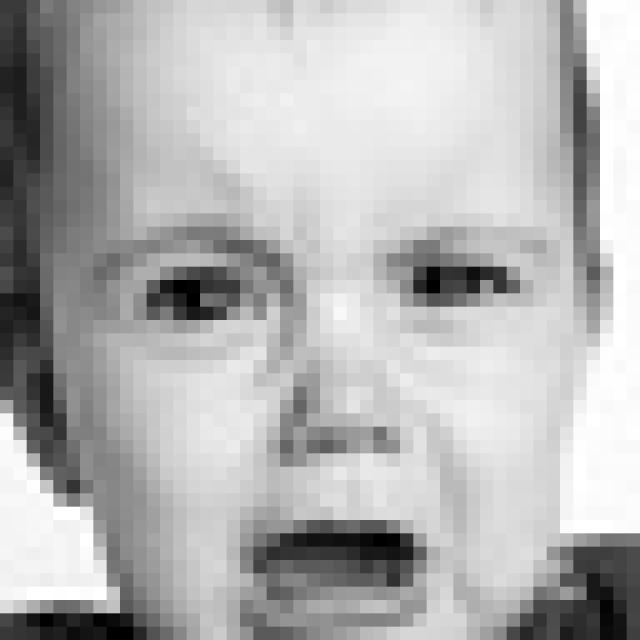sad: (75, 202, 575, 640)
